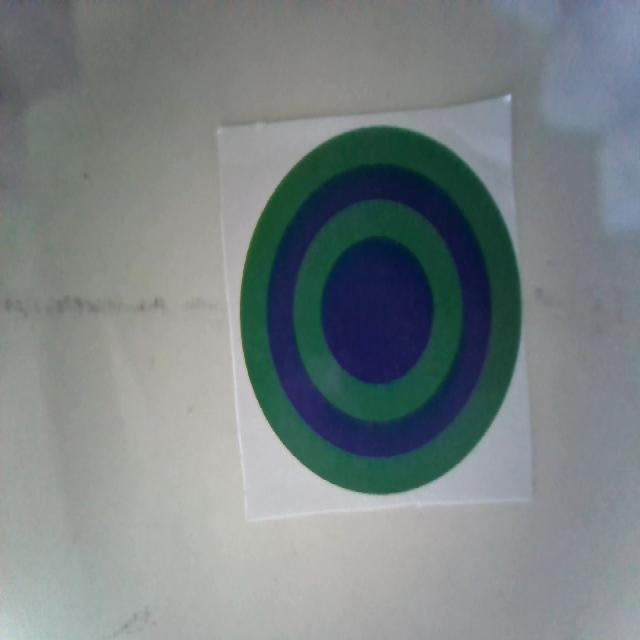cogn: (237, 124, 520, 496)
